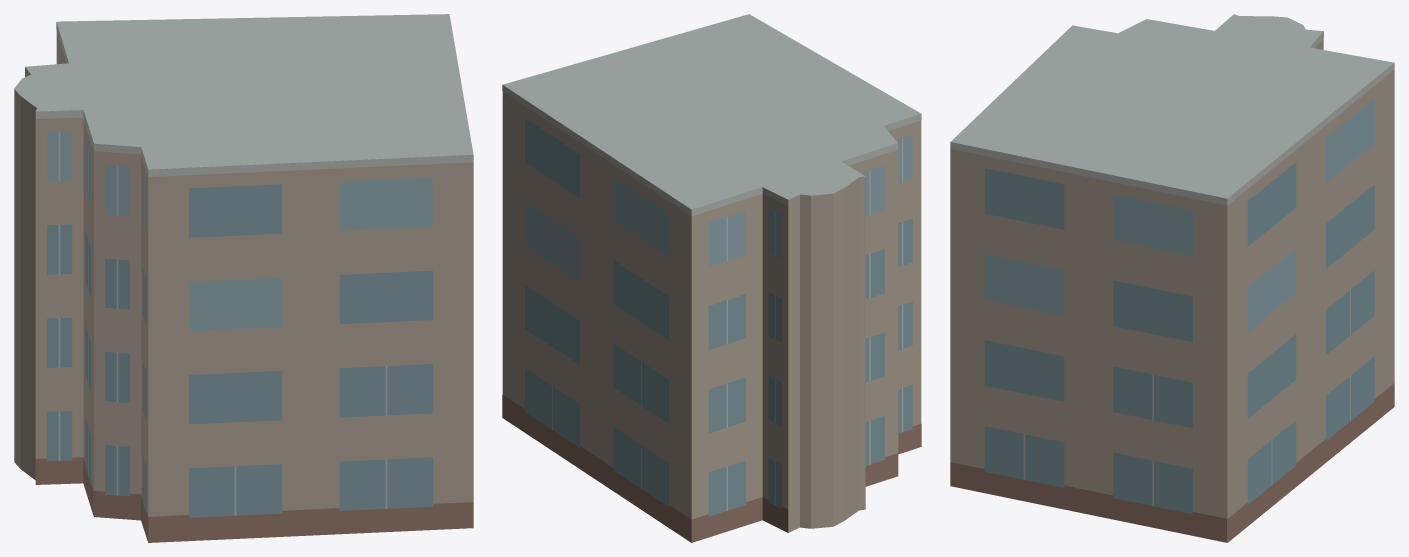
The model's file is survey-upis-32679215.glb.
3 views of the same model, side by side, from view 1: azimuth 30°, elevation 25°; view 2: azimuth 150°, elevation 25°; view 3: azimuth 270°, elevation 25° (orthographic). The views are drawn at different scales.
Parts seen in each view (by area): view 1: survey-upis-32679215.tmp; view 2: survey-upis-32679215.tmp; view 3: survey-upis-32679215.tmp.
Part boxes in pixels (x1,y1,x2,y2): survey-upis-32679215.tmp: (14,14,473,542); survey-upis-32679215.tmp: (502,14,921,542); survey-upis-32679215.tmp: (950,14,1394,542).
Bounding box in the file's own units: 14.05 × 12.2 × 14.28.
